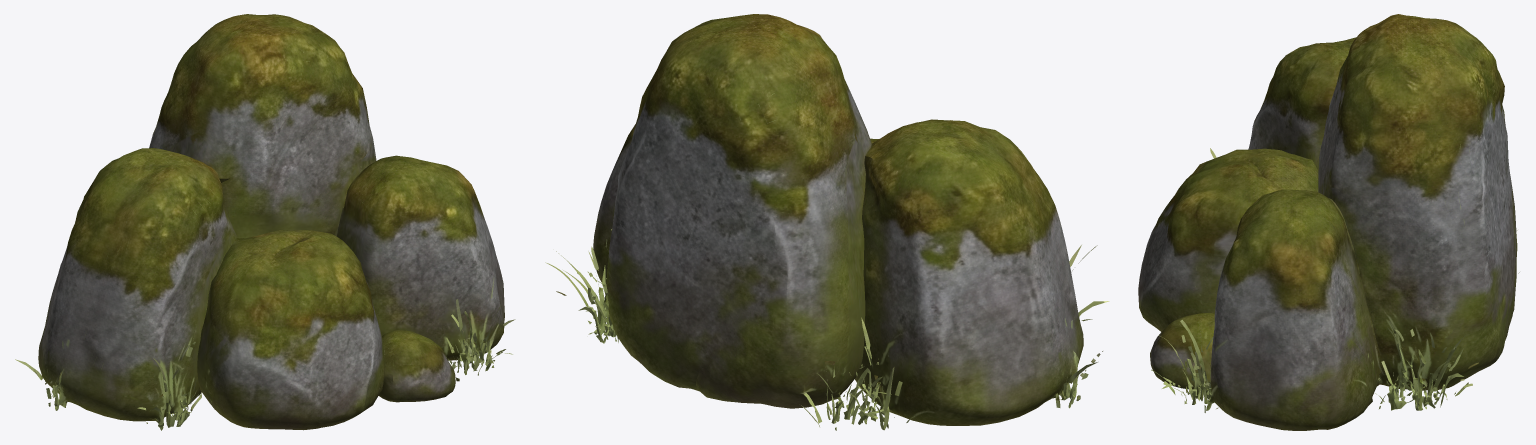
Rendered from meadows_rock_cluster_a.glb.
3 renders of one model, left to right at view 1: azimuth 30°, elevation 25°; view 2: azimuth 150°, elevation 25°; view 3: azimuth 270°, elevation 25°, orthographic. The views are drawn at different scales.
Visible parts, largest first — view 1: Mesh_0; view 2: Mesh_0; view 3: Mesh_0.
Part boxes in pixels (x1,y1,x2,y2): Mesh_0: (15, 14, 515, 430); Mesh_0: (545, 14, 1109, 430); Mesh_0: (1138, 14, 1519, 430).
Size of the model in its own units: 1.87 by 1.17 by 1.28.
1 material, 1 textured.
